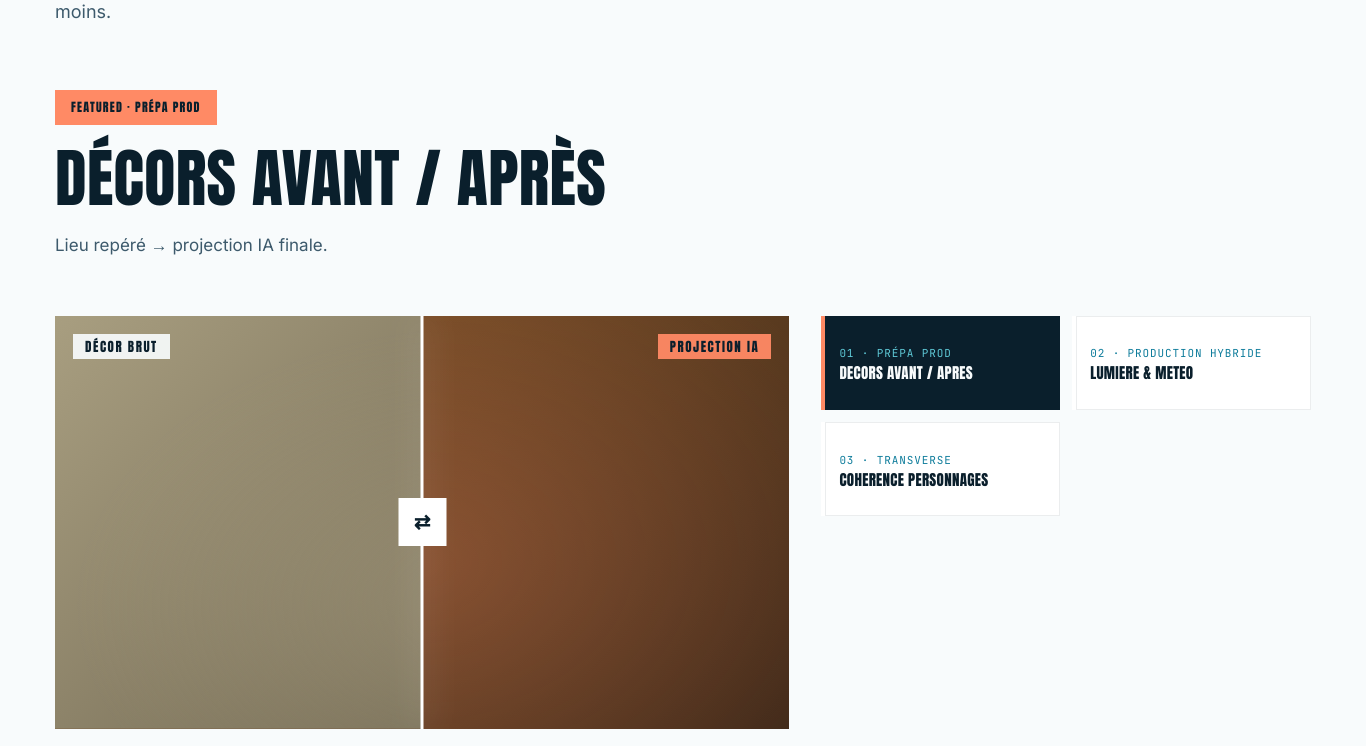
Capacities — section interactive › change le contenu du comparateur au clic sur une autre capacité
(page scrolled)
Click the tab "02 · production hybride Lumière & météo": click(1192, 363) [1072,316,1311,410]
(page scrolled)
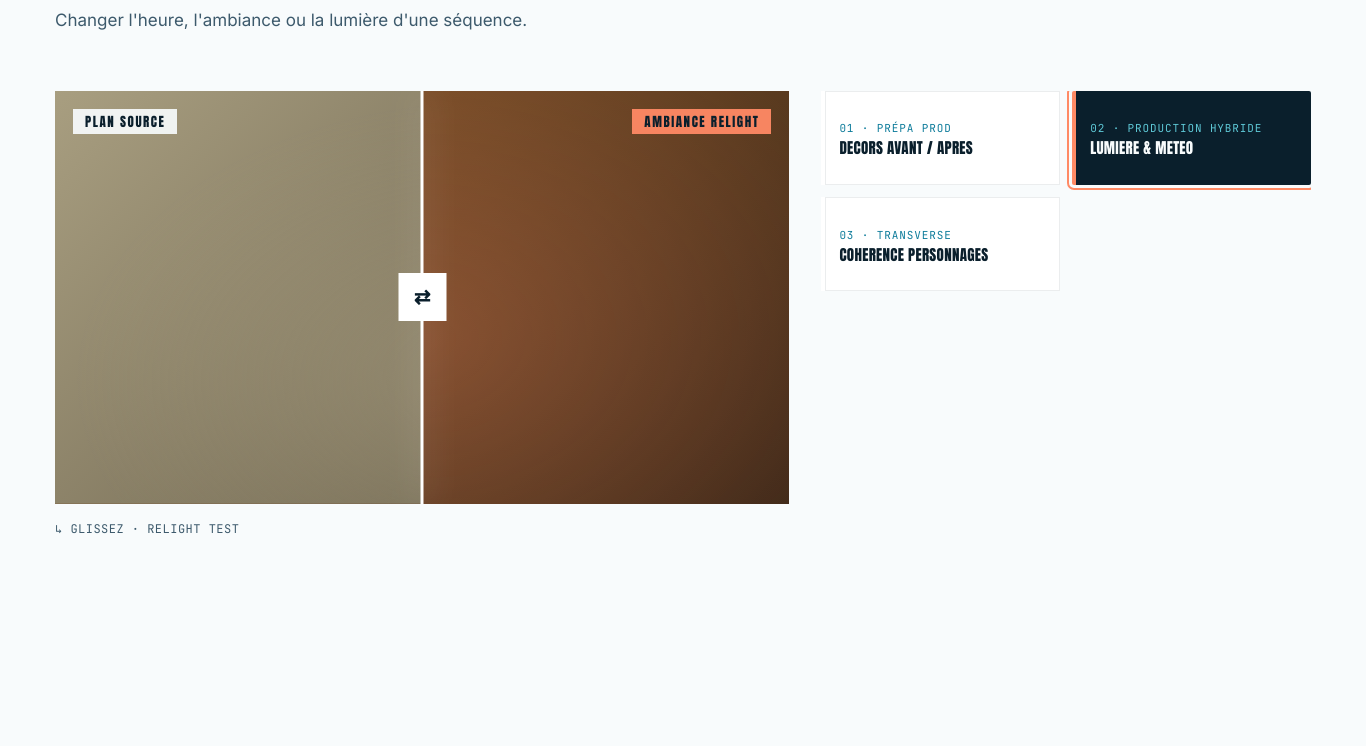
Result: the text "↳ glissez · relight test" is shown at [55,521,239,537]
